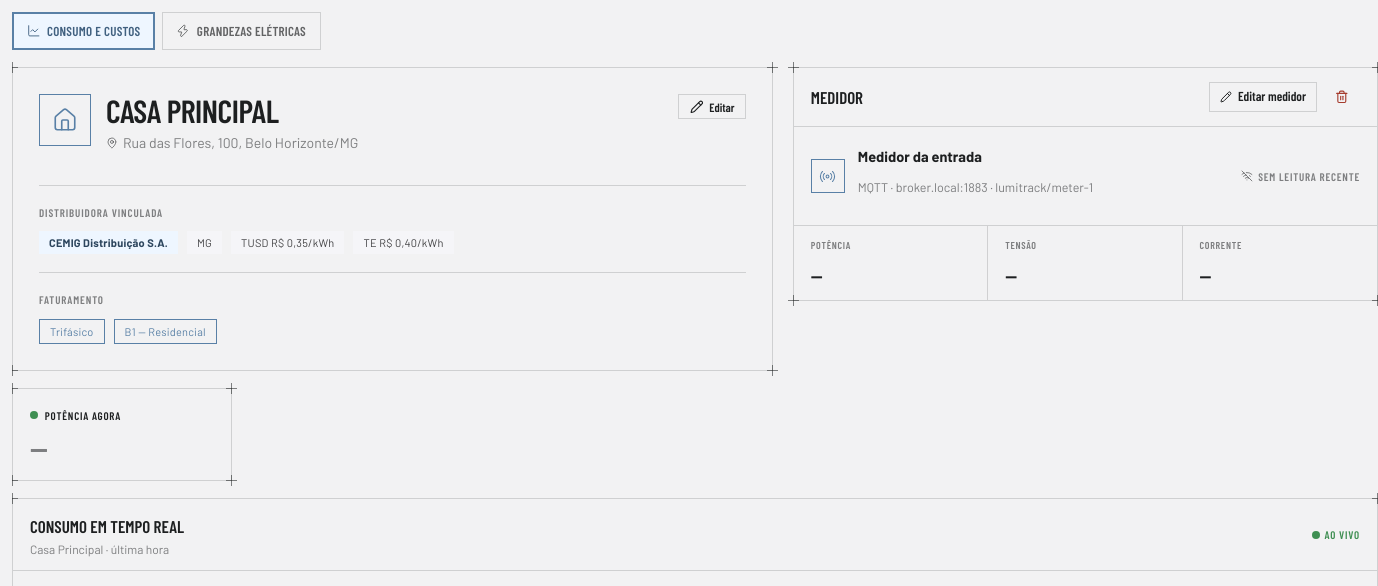
Test: PropertyDetailsPage — aba Grandezas Elétricas › com medidor, mostra a área 'Análise das grandezas'; sem medidor, ela não aparece
Expected: the heading "Casa Principal" is shown, [106,91,278,129]
Click the tab "Grandezas Elétricas". click: coordinates (241, 31)
box: [162,12,320,50]
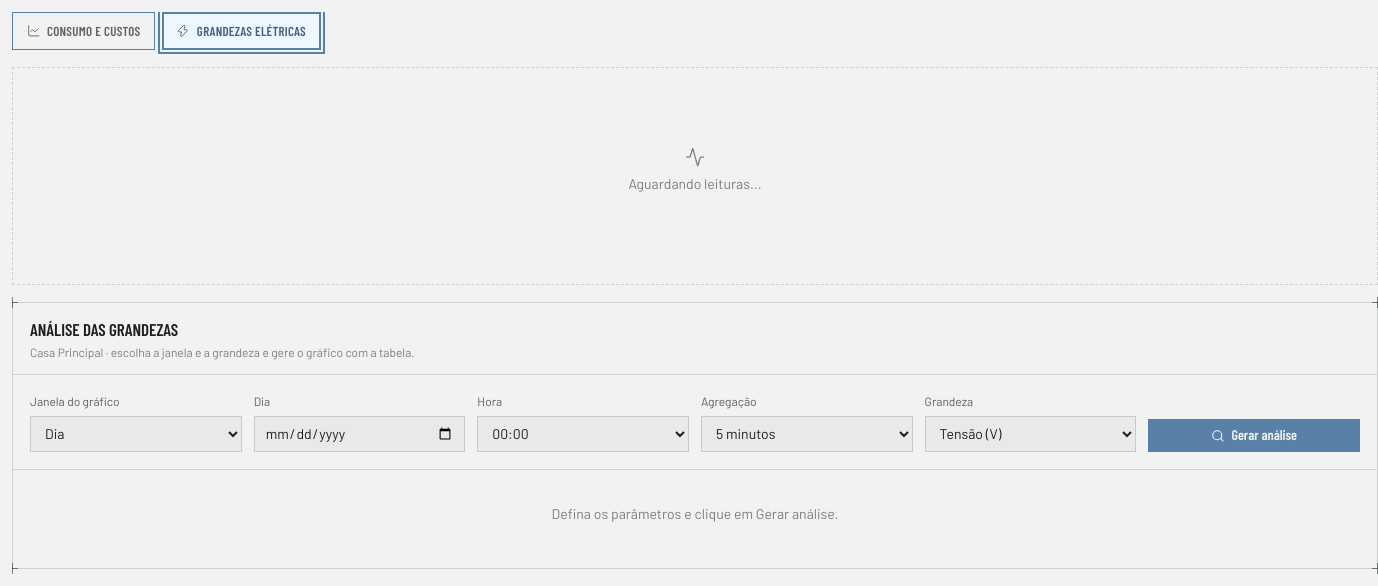
Expected: the text "Análise das grandezas" is shown, [30,319,178,339]
Expected: the text "Defina os parâmetros e clique em Gerar análise." is shown, [552,504,838,522]
